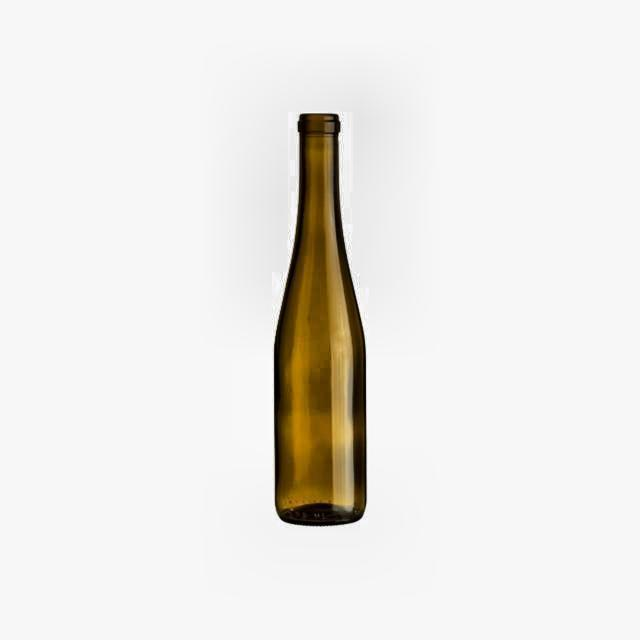glass: (273, 113, 366, 528)
